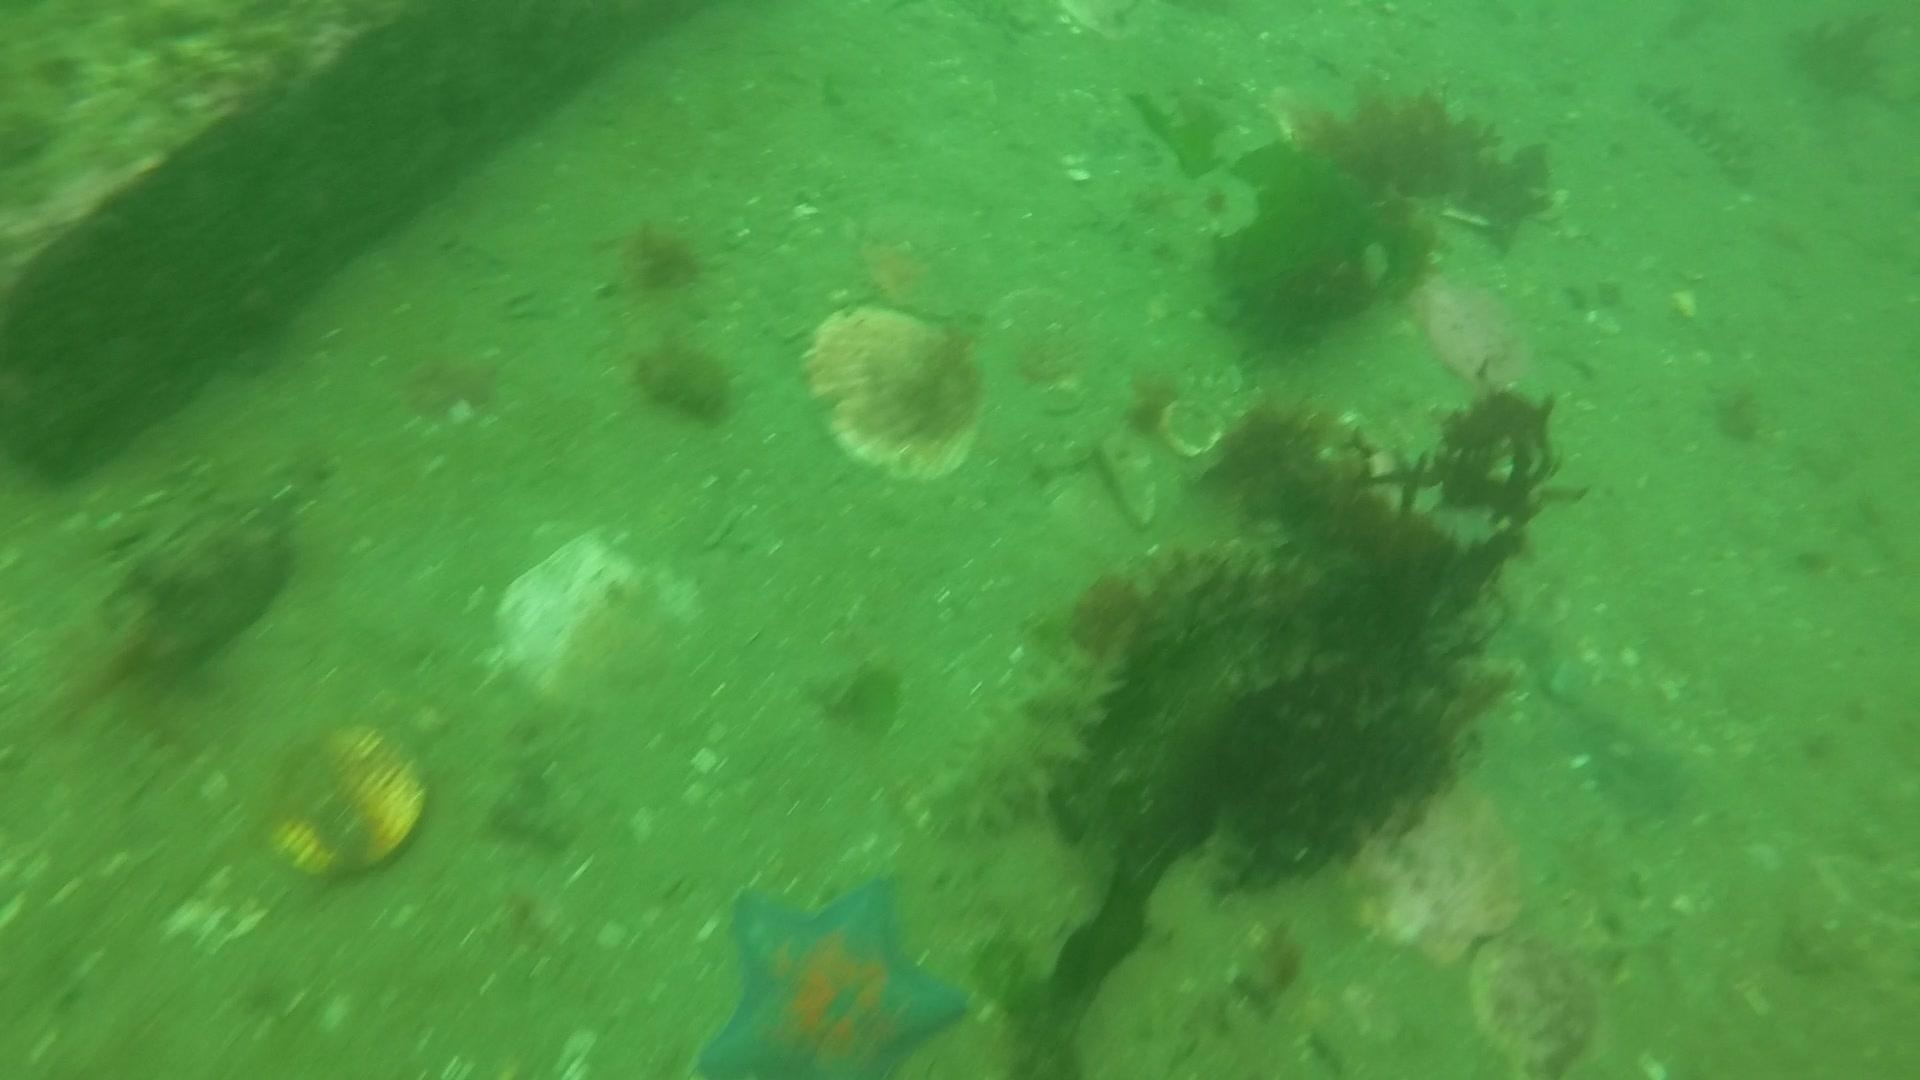holothurian: (906, 636, 1130, 839), (1635, 71, 1768, 194)
scallop: (798, 301, 990, 483), (239, 719, 429, 887)
starfish: (692, 874, 973, 1080)
